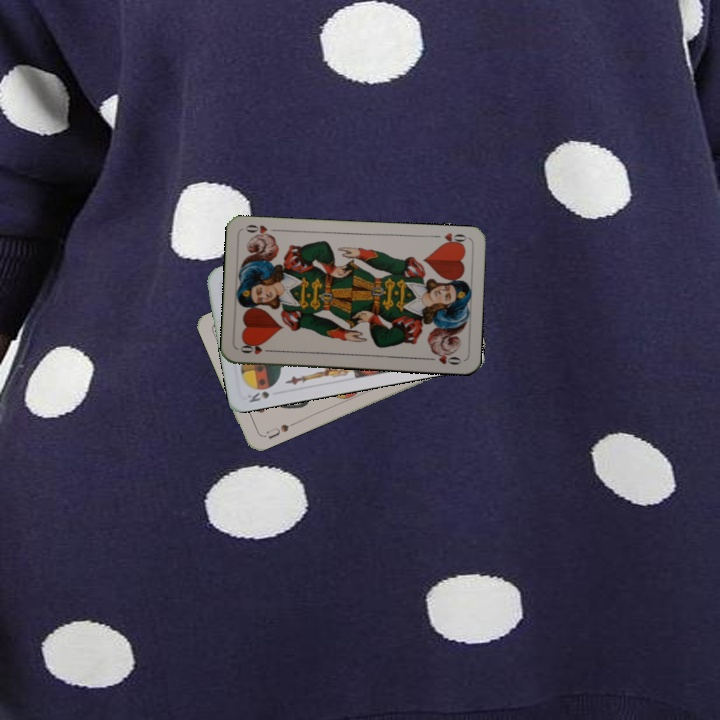HO: (429, 228, 469, 249), (236, 340, 276, 357)
SK: (243, 387, 272, 405)
SU: (259, 418, 298, 441)
